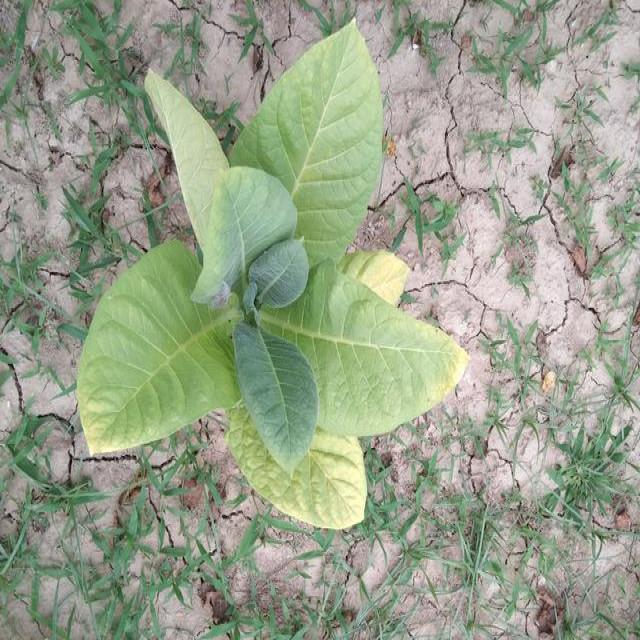crop: (78, 20, 465, 533)
